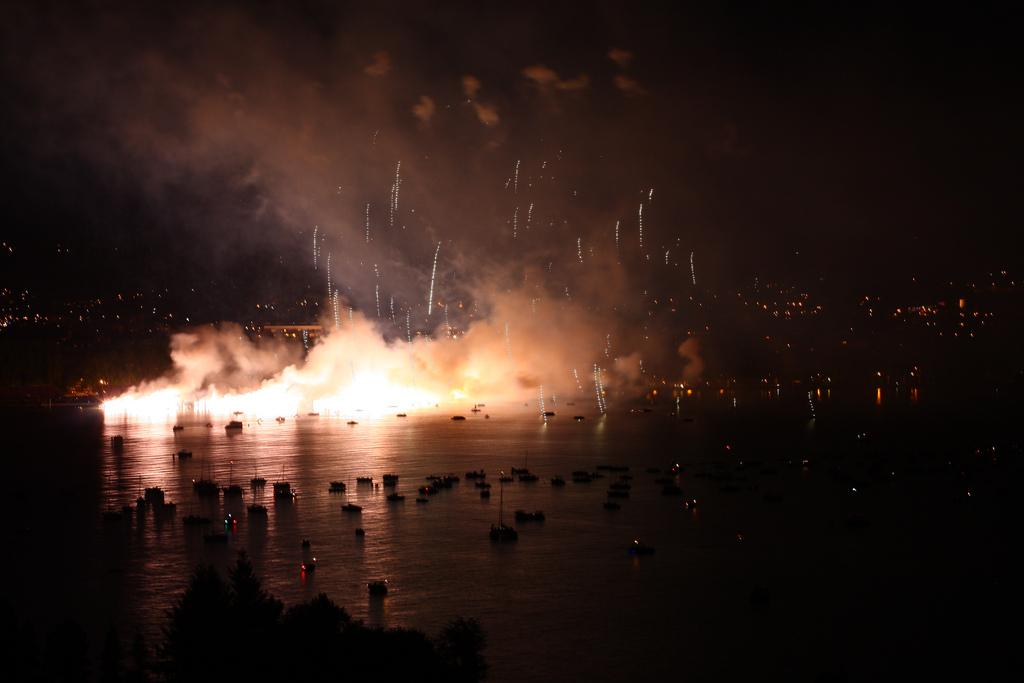fire: (245, 358, 418, 417), (115, 390, 200, 423)
smoke: (492, 313, 625, 398)
